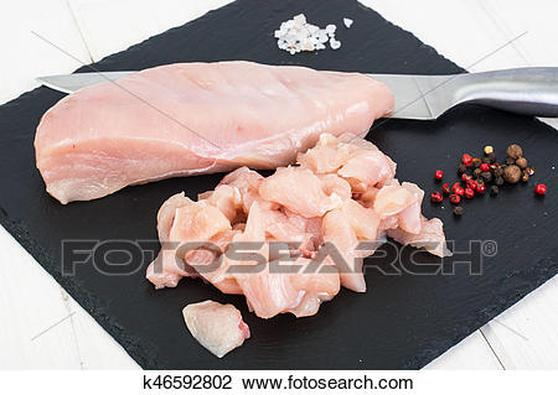chicken_fillet: (42, 58, 390, 206)
